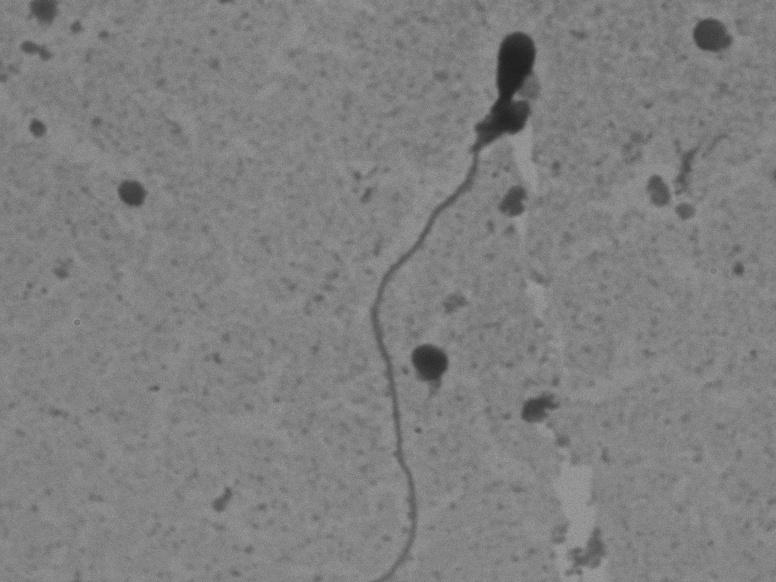Abnormal: (319, 21, 566, 573)
